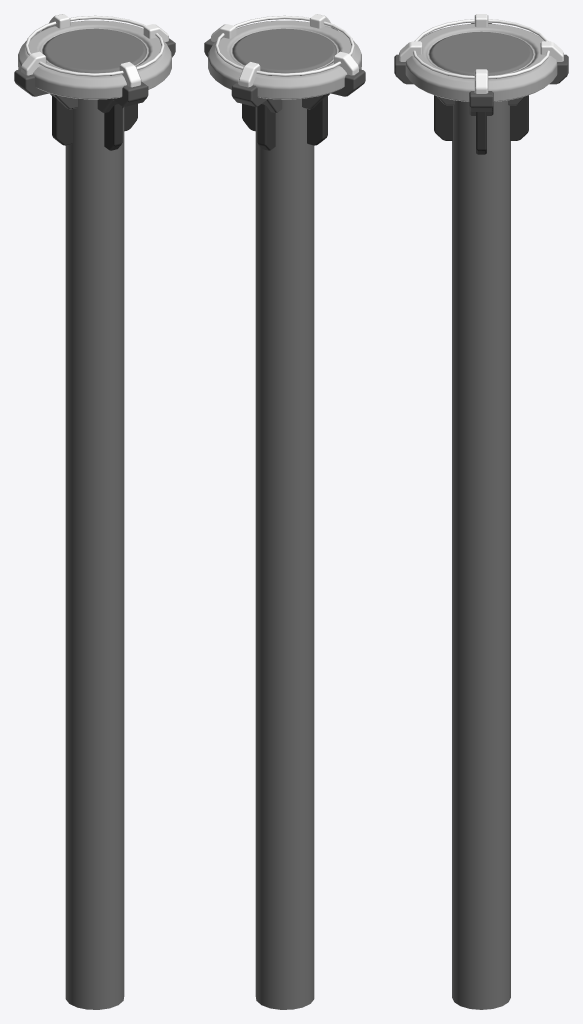
Rendered from Elevator_Top.fbx.
3 views of the same model, side by side, from view 1: azimuth 30°, elevation 25°; view 2: azimuth 150°, elevation 25°; view 3: azimuth 270°, elevation 25° (orthographic).
Parts seen in each view (by area): view 1: Cylinder.018; view 2: Cylinder.018; view 3: Cylinder.018.
Part boxes in pixels (box(x1,y1,x2,y2)): Cylinder.018: box(14, 14, 175, 1009); Cylinder.018: box(204, 14, 365, 1009); Cylinder.018: box(394, 14, 568, 1009).
Size of the model in its own units: 126 by 763 by 126.
